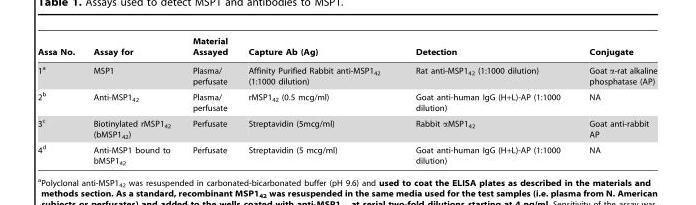table: (37, 36, 656, 165)
table column: (397, 36, 574, 165), (237, 36, 397, 165), (83, 36, 181, 165), (574, 36, 656, 165), (181, 36, 237, 165), (37, 36, 83, 165)
table column header: (37, 36, 656, 60)
table row: (37, 60, 656, 87), (37, 87, 656, 114), (37, 114, 656, 141), (37, 36, 656, 60), (37, 141, 656, 165)
